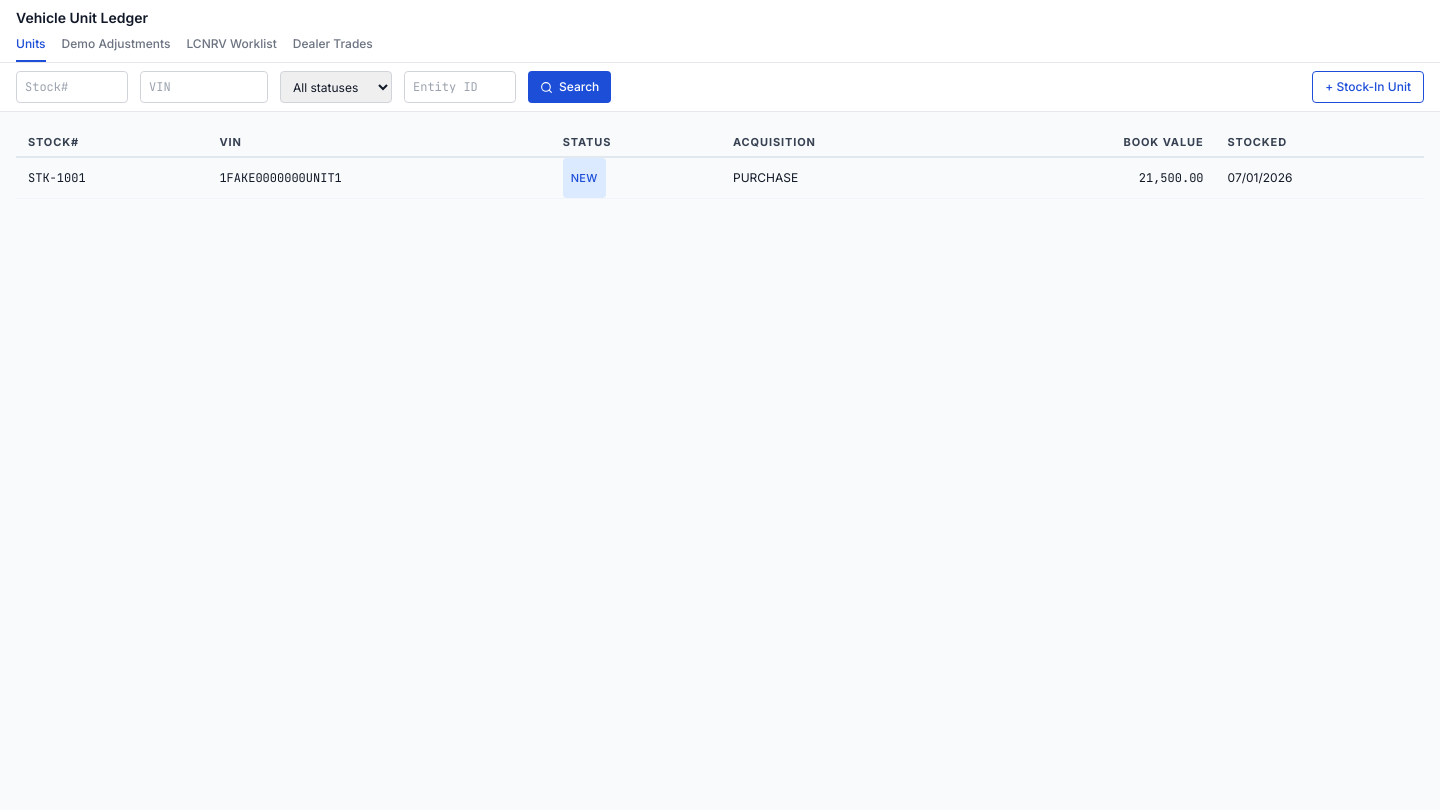
Scenario: VehicleUnitLedger — Units tab › opens the unit detail panel and drills into the real coa-service journal from a cost-component row
What coordinates should you click on to do the following:
click the row with test id "unit-row-STK-1001"
I would click on:
 (720, 178)
Its box is [16,157,1424,198].
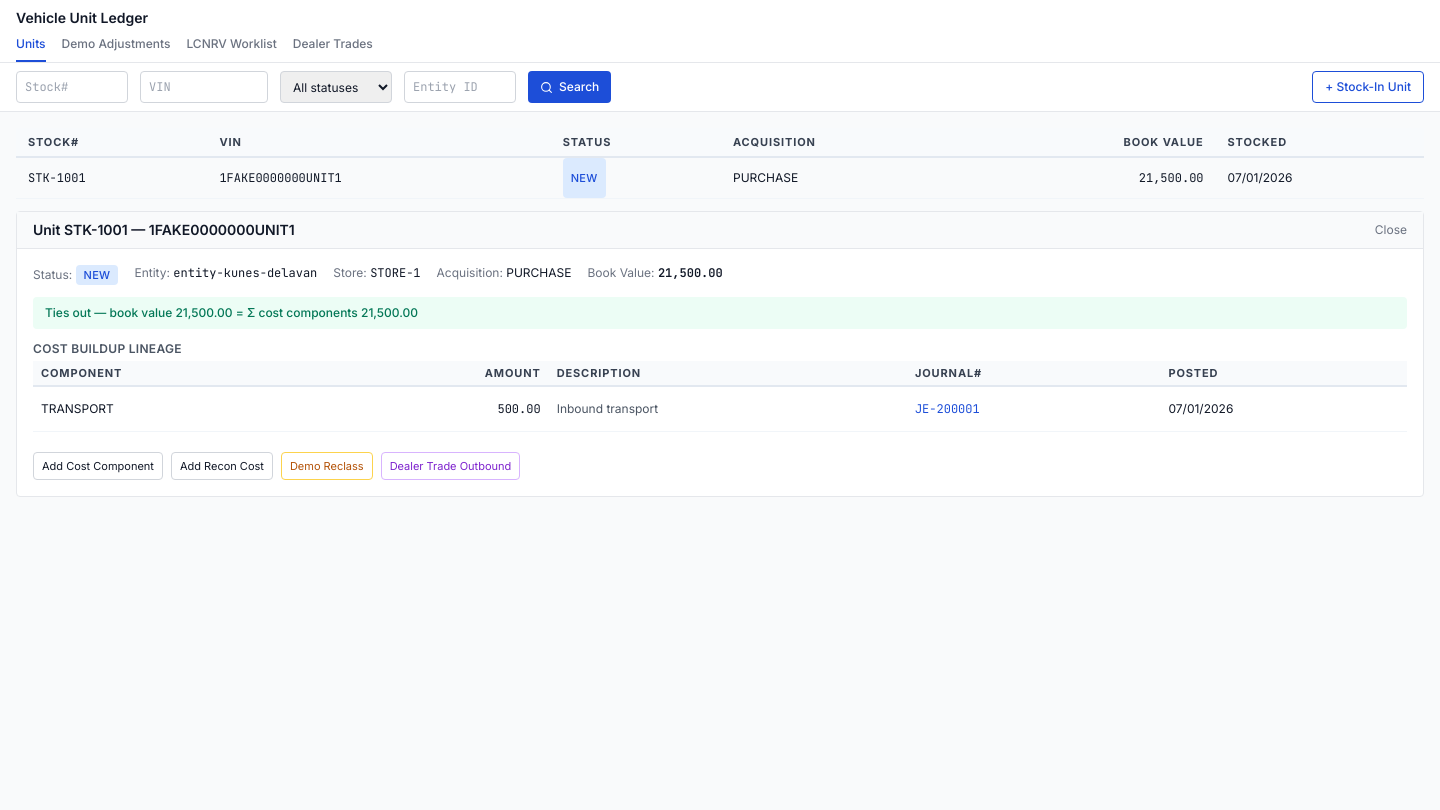
Expected: the element with test id "unit-detail-STK-1001" is shown, [16,211,1424,497]
Expected: the text with test id "unit-tie-strip" shows "Ties out", [45,305,418,320]
What coordinates should you click on to do the following:
click the button with test id "journal-drill-link-cc-1"
I would click on:
 (947, 409)
Its box is [915,391,980,427].
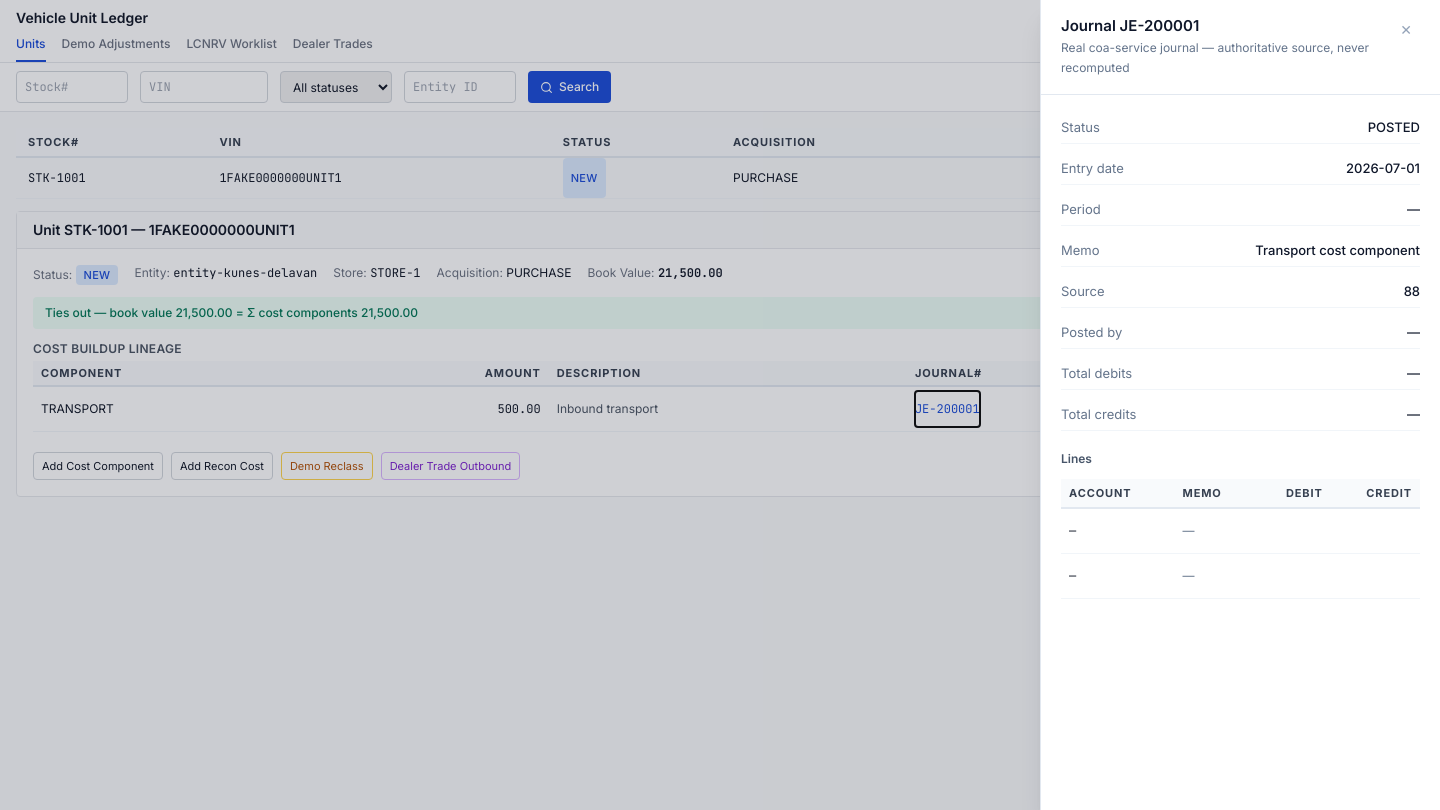
Expected: the dialog with test id "ce12-journal-drill-drawer" is shown, [1040,0,1439,809]
